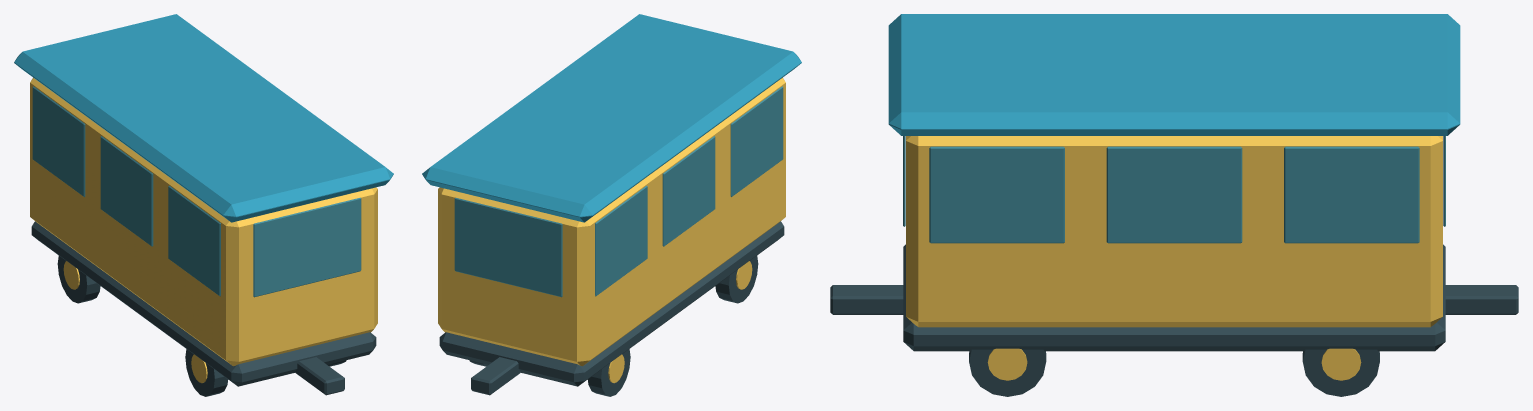
The model's file is train-carriage.glb.
3 views of the same model, side by side, from view 1: azimuth 30°, elevation 25°; view 2: azimuth 150°, elevation 25°; view 3: azimuth 270°, elevation 25° (orthographic). The views are drawn at different scales.
Parts seen in each view (by area): view 1: TrainCarriage; view 2: TrainCarriage; view 3: TrainCarriage.
Part boxes in pixels (x1,y1,x2,y2): TrainCarriage: [14, 14, 393, 396]; TrainCarriage: [422, 14, 801, 396]; TrainCarriage: [830, 14, 1518, 396].
Size of the model in its own units: 2.47 by 3.08 by 6.6.
